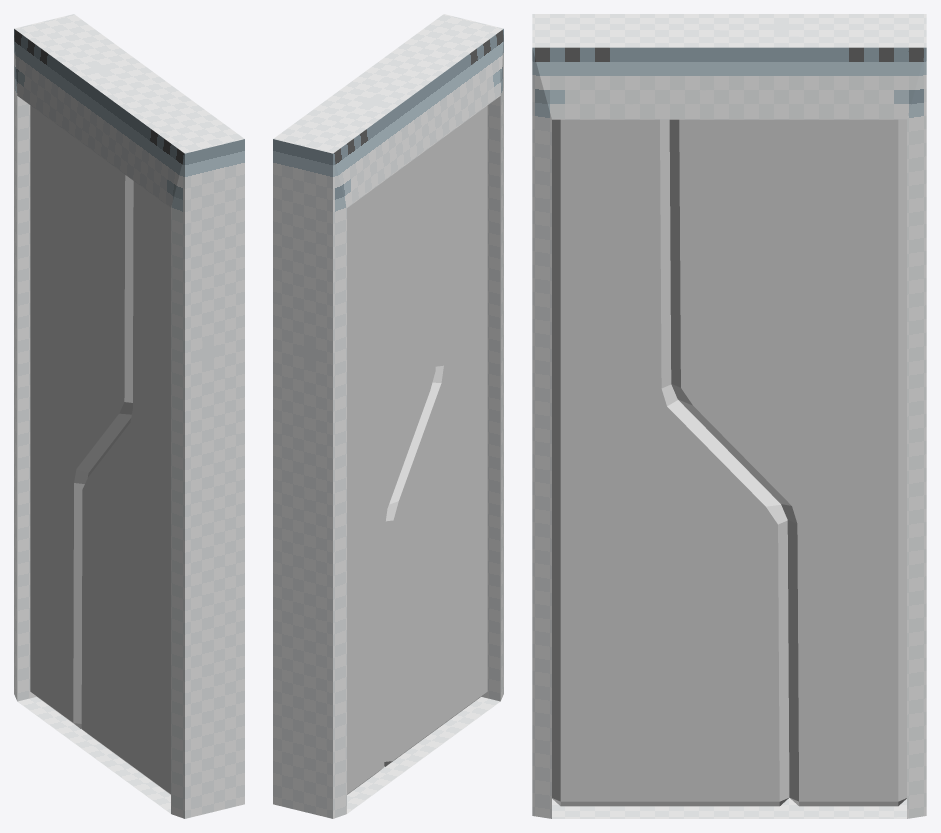
The model's file is scifidoor.glb.
3 views of the same model, side by side, from view 1: azimuth 30°, elevation 25°; view 2: azimuth 150°, elevation 25°; view 3: azimuth 270°, elevation 25° (orthographic). The views are drawn at different scales.
Visible parts, largest first — view 1: Frame, Door.001, Door; view 2: Frame, Door, Door.001; view 3: Door, Door.001, Frame.
Part boxes in pixels (x1=…): Frame: x1=14, y1=14, x2=244, y2=818; Door.001: x1=30, y1=105, x2=133, y2=728; Door: x1=81, y1=181, x2=170, y2=794; Frame: x1=273, y1=14, x2=503, y2=818; Door: x1=384, y1=105, x2=487, y2=766; Door.001: x1=347, y1=143, x2=436, y2=794; Door: x1=552, y1=119, x2=789, y2=806; Door.001: x1=669, y1=119, x2=906, y2=806; Frame: x1=532, y1=14, x2=926, y2=818.
Size of the model in its own units: 0.4778 by 4.3 by 2.
2 materials, 1 textured.
